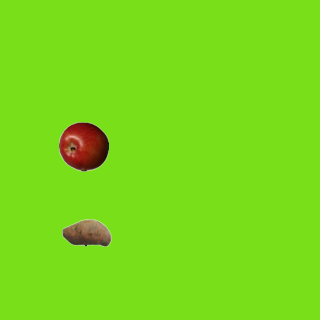Apple Braeburn: (58, 121, 108, 171)
Potato Sweet: (61, 207, 111, 257)
